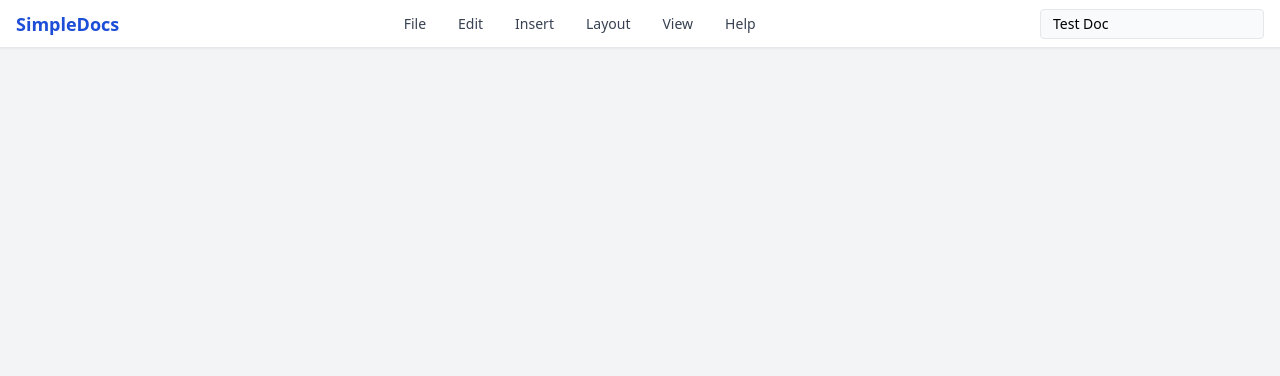
Test: Navbar — menu close behavior › File menu › closes after clicking Load Demo
Click the button "File".
click(415, 24)  # box 396,10 -> 434,38
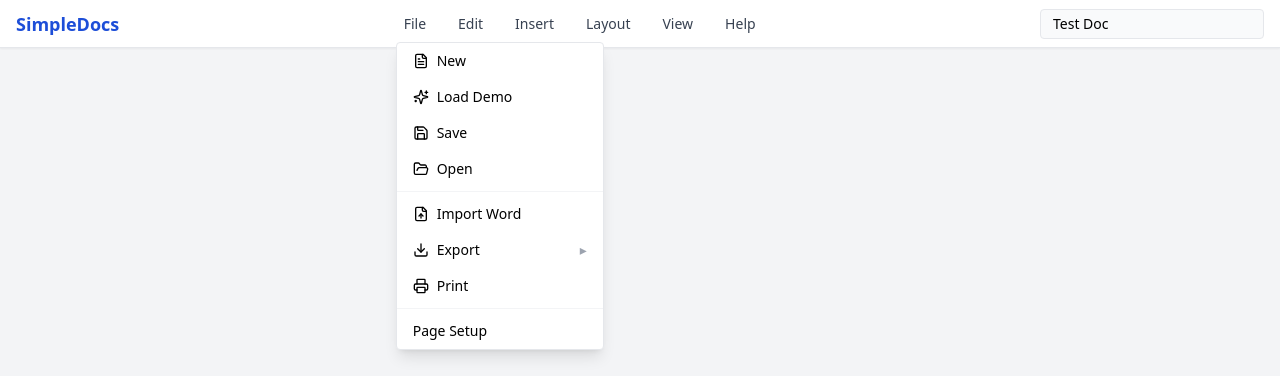
Result: the button "Load Demo" is shown
Click the button "Load Demo".
click(500, 96)  # box 397,78 -> 603,114
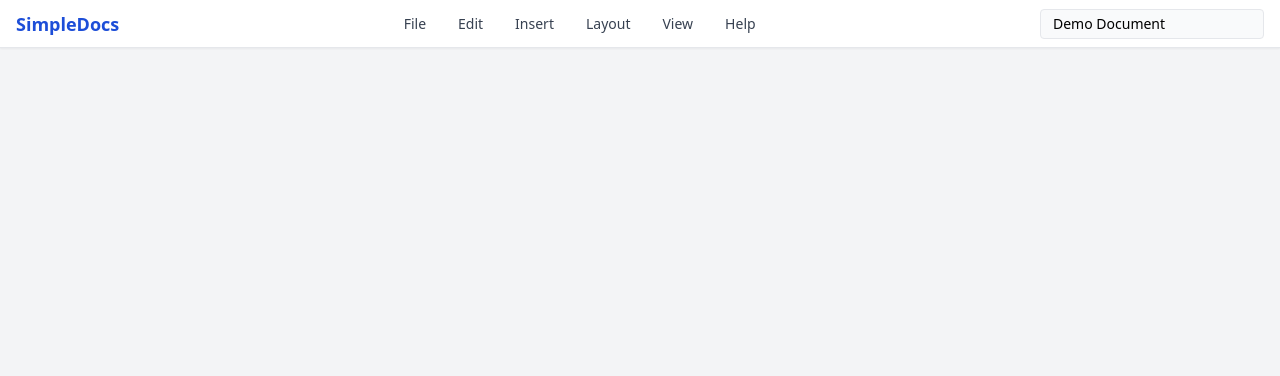
Result: the button "Load Demo" is gone
